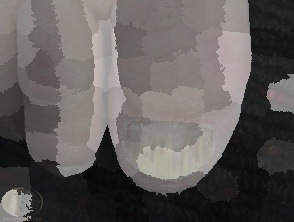Nail_psoriasis: (116, 114, 218, 191), (40, 160, 96, 179)
